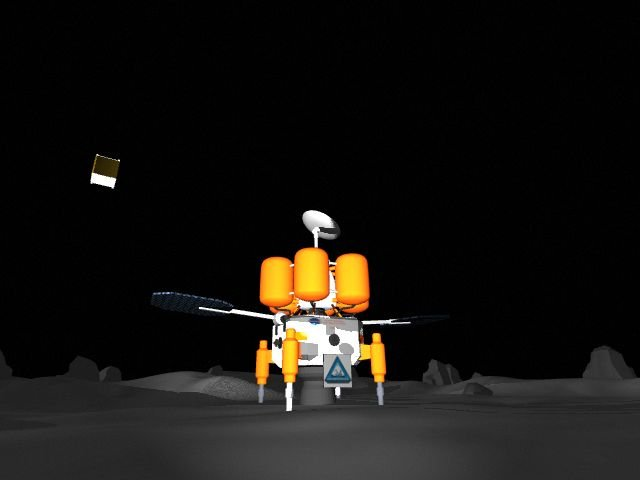homebase: (145, 207, 451, 414)
